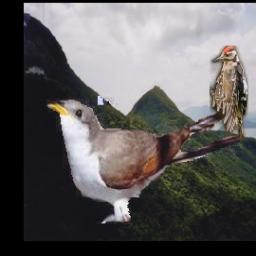Crow: (98, 36, 122, 105)
Cuckoo: (46, 99, 240, 223)
Woodpecker: (209, 46, 247, 141)
